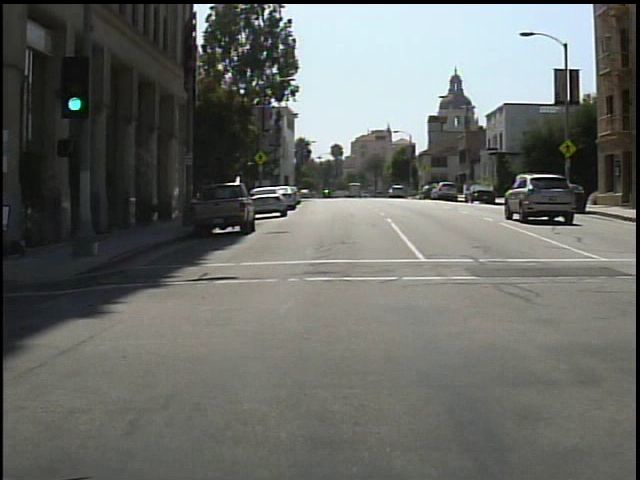person: (3, 162, 13, 274)
